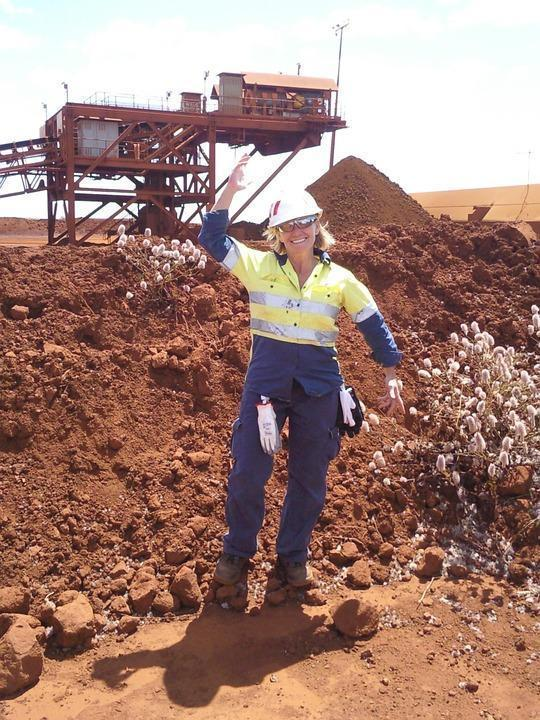Boots: (259, 183, 360, 247)
Glass: (223, 240, 393, 375)
